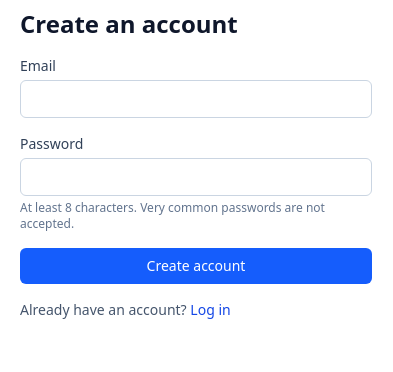
Test: RegisterForm › shows a duplicate-account message on 409 without exposing internal detail
Type "student@example.org" into the field labelled "Email". click: coordinates (196, 99)
box: [20,80,372,118]
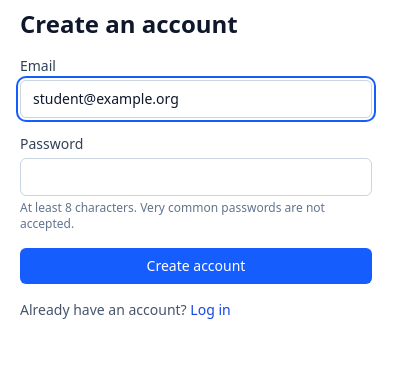
Type "correcthorsebattery" into the password field labelled "Password". click: coordinates (196, 177)
box: [20,158,372,196]
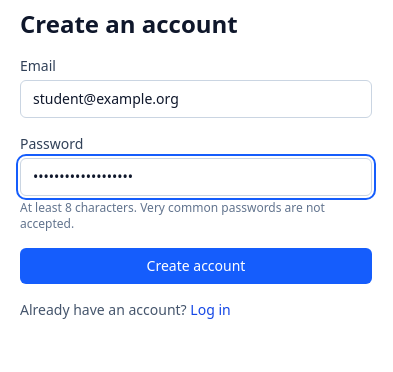
Click the button "Create account". click: coordinates (196, 266)
box: [20,248,372,284]
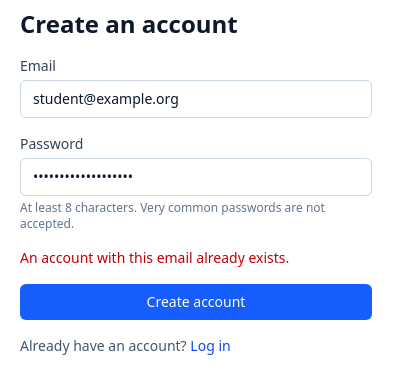
Check: the message reads "An account with this email already exists.", box [20,248,289,267]
